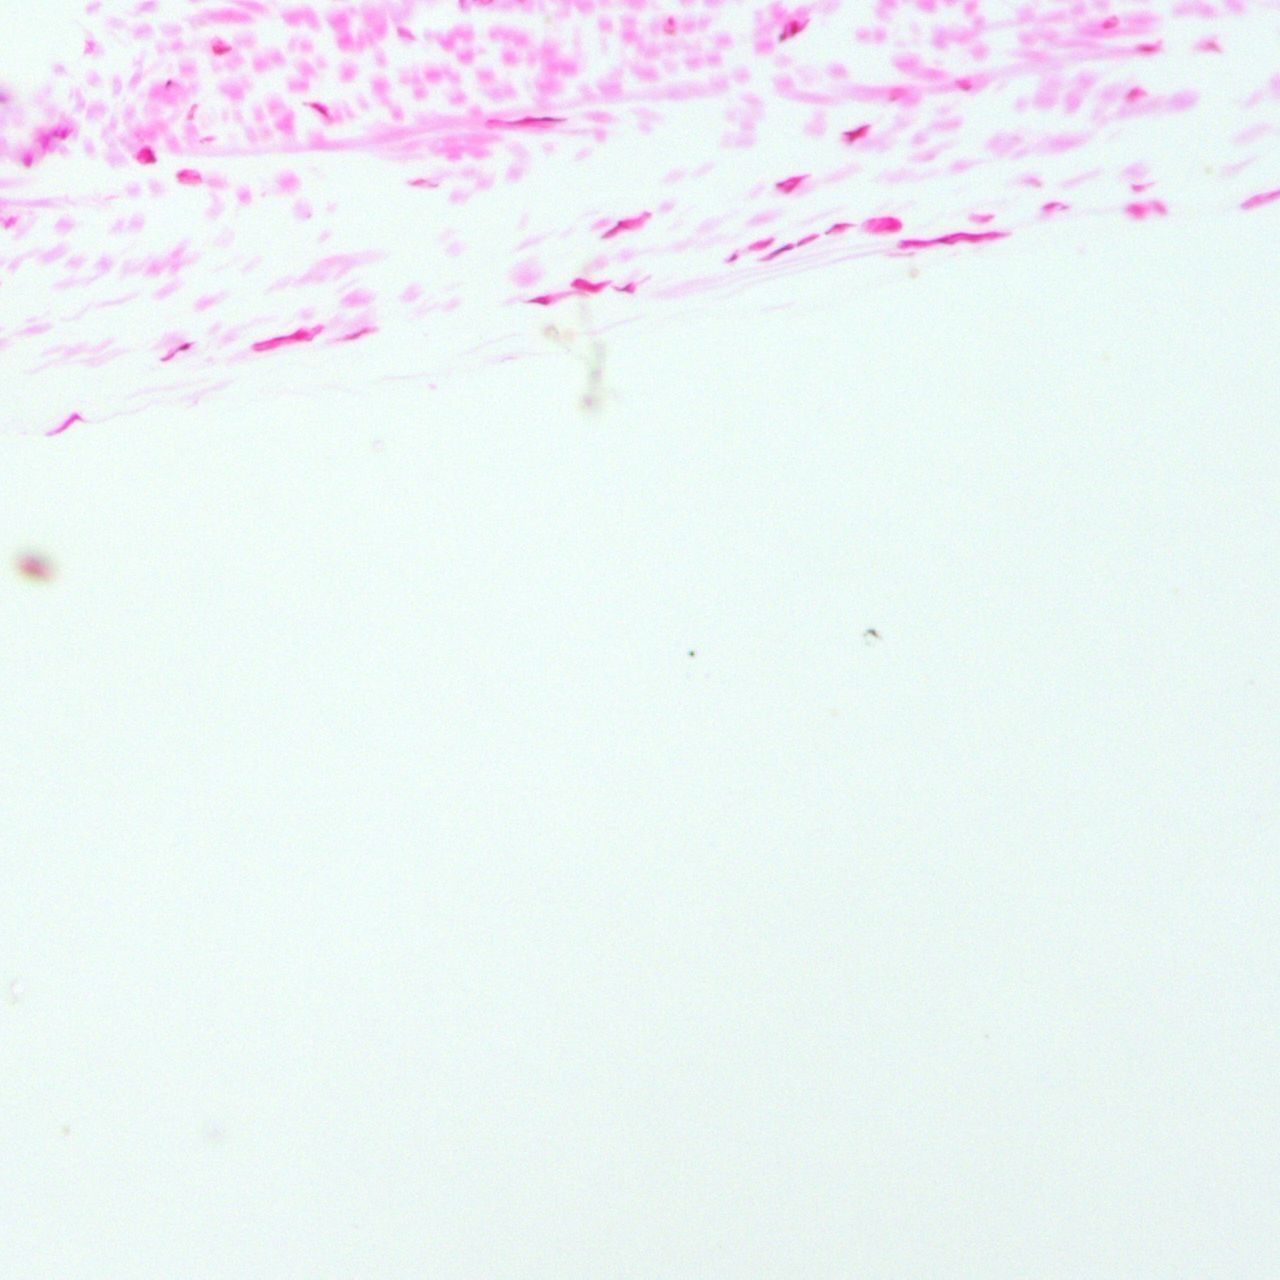dust: (862, 628, 880, 639), (687, 651, 696, 658)
nucleus-FG: (248, 322, 326, 356), (598, 209, 652, 241), (34, 120, 75, 154), (938, 227, 1005, 247), (772, 13, 805, 46), (758, 240, 796, 265), (158, 339, 193, 365), (775, 171, 811, 195), (822, 217, 857, 240), (305, 95, 334, 121), (486, 117, 566, 127), (568, 277, 611, 293), (860, 216, 903, 232), (843, 123, 873, 145), (745, 234, 775, 256), (794, 230, 823, 250), (1124, 83, 1148, 101), (175, 169, 200, 184), (135, 147, 157, 164), (896, 239, 937, 248), (662, 16, 679, 36), (1101, 15, 1118, 30), (1136, 43, 1160, 54), (211, 43, 232, 55), (523, 295, 552, 304), (955, 79, 973, 91), (21, 152, 35, 168), (615, 282, 635, 292)
